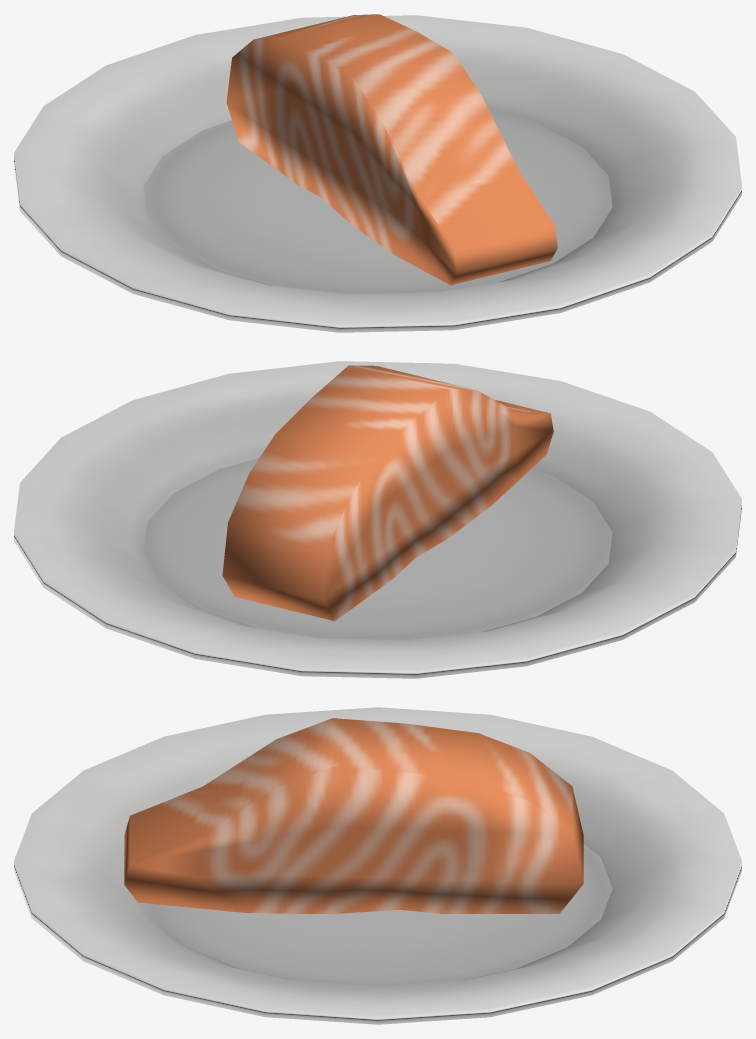
File: assets_salmon_plate.fbx
3 views of the same model, one above another, from view 1: azimuth 30°, elevation 25°; view 2: azimuth 150°, elevation 25°; view 3: azimuth 270°, elevation 25° (orthographic).
Visible parts, largest first — view 1: assets_salmon_plate; view 2: assets_salmon_plate; view 3: assets_salmon_plate.
Part boxes in pixels (left/top/right/bottom): assets_salmon_plate: left=14, top=14, right=741, bottom=332; assets_salmon_plate: left=14, top=361, right=741, bottom=678; assets_salmon_plate: left=14, top=707, right=741, bottom=1024.
Bounding box in the file's own units: 4.12 × 0.9859 × 4.12.
